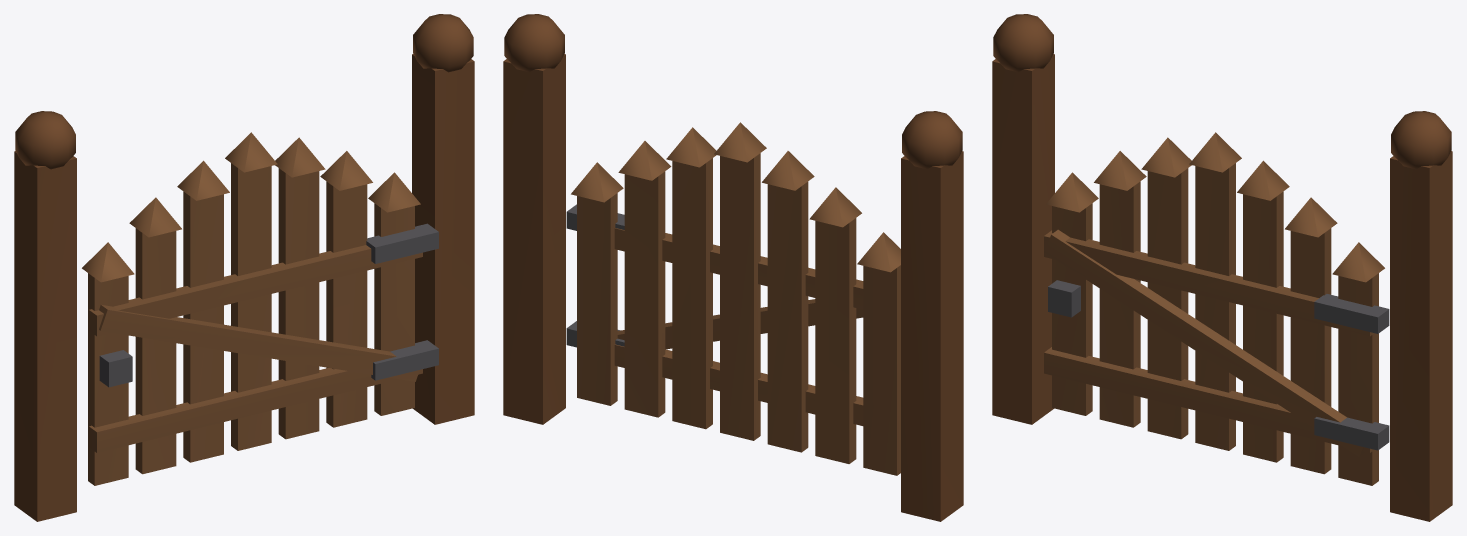
File: fence-gate.glb
3 views of the same model, side by side, from view 1: azimuth 30°, elevation 25°; view 2: azimuth 150°, elevation 25°; view 3: azimuth 330°, elevation 25° (orthographic).
Visible parts, largest first — view 1: fence-gate; view 2: fence-gate; view 3: fence-gate.
Part boxes in pixels (x1=…): fence-gate: x1=14, y1=14, x2=474, y2=521; fence-gate: x1=503, y1=14, x2=963, y2=521; fence-gate: x1=992, y1=14, x2=1452, y2=521.
Bounding box in the file's own units: 1.13 × 0.95 × 0.1483.
